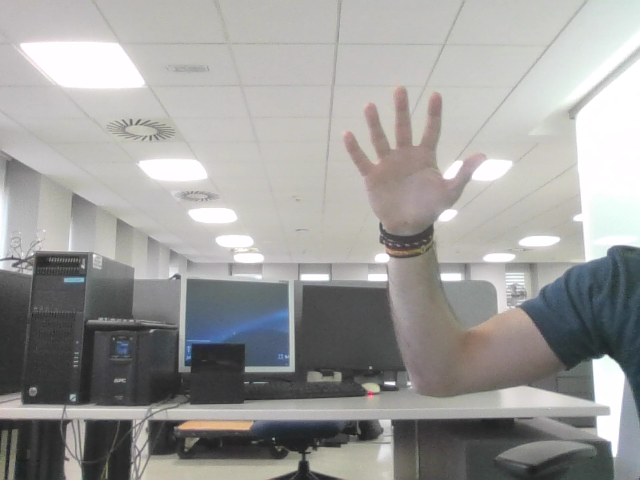Mano Abierta: (355, 98, 472, 204)
